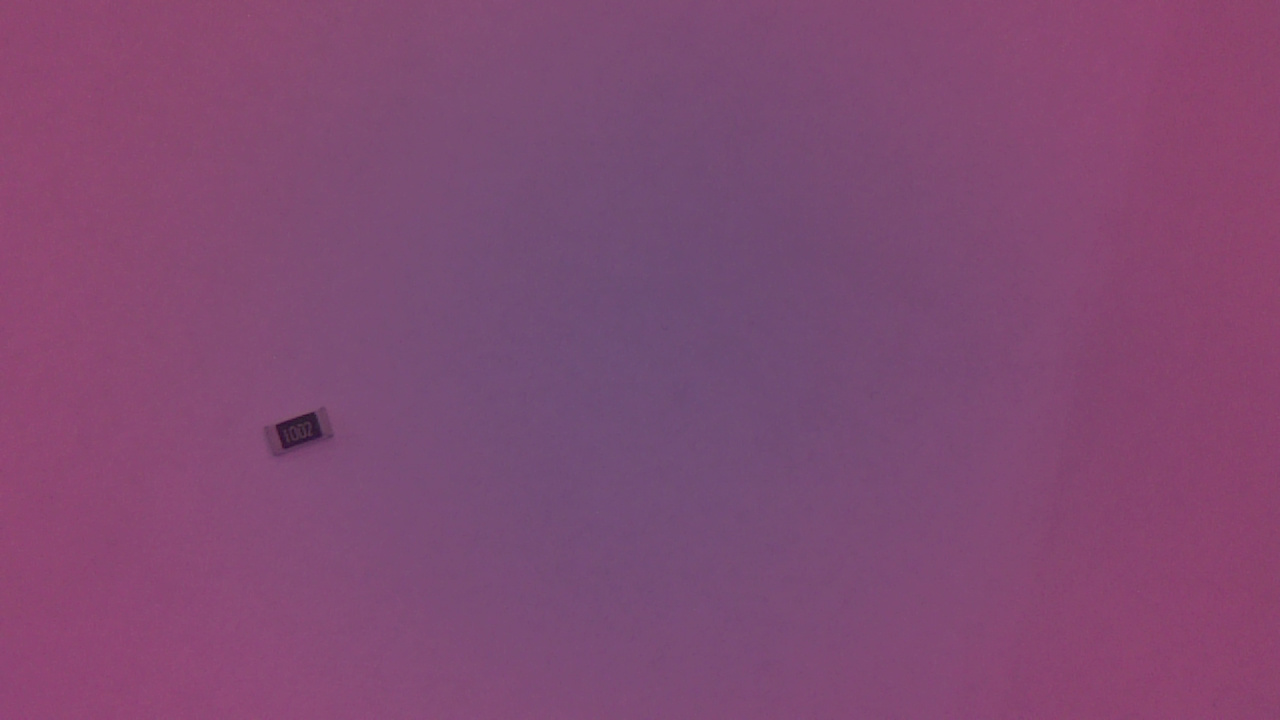Resistor: (265, 403, 344, 471)
